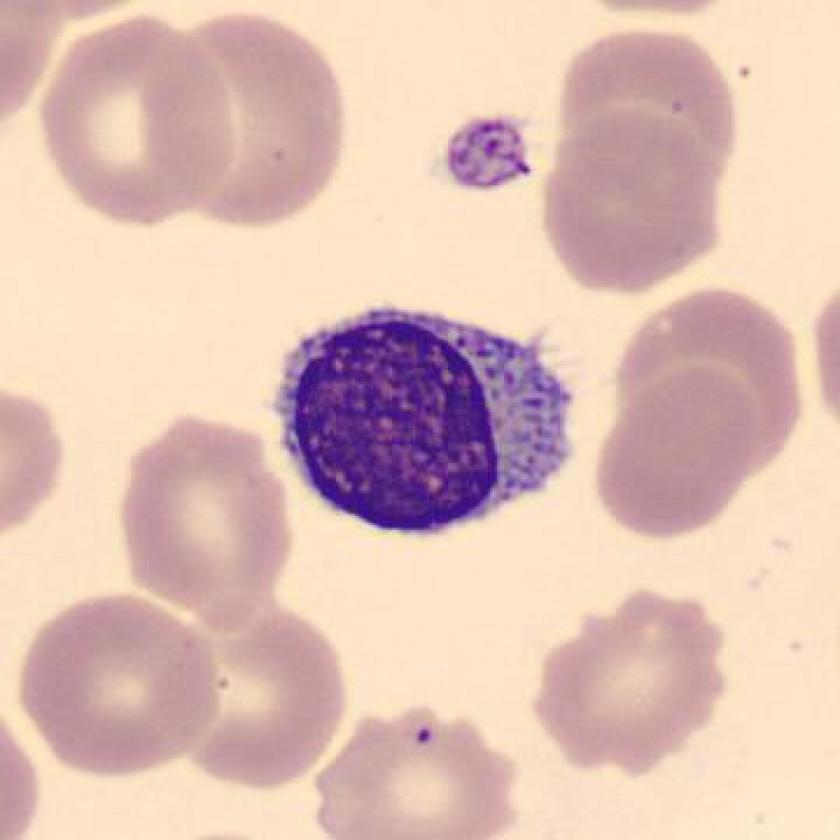lymphocyte: (267, 297, 584, 547)
